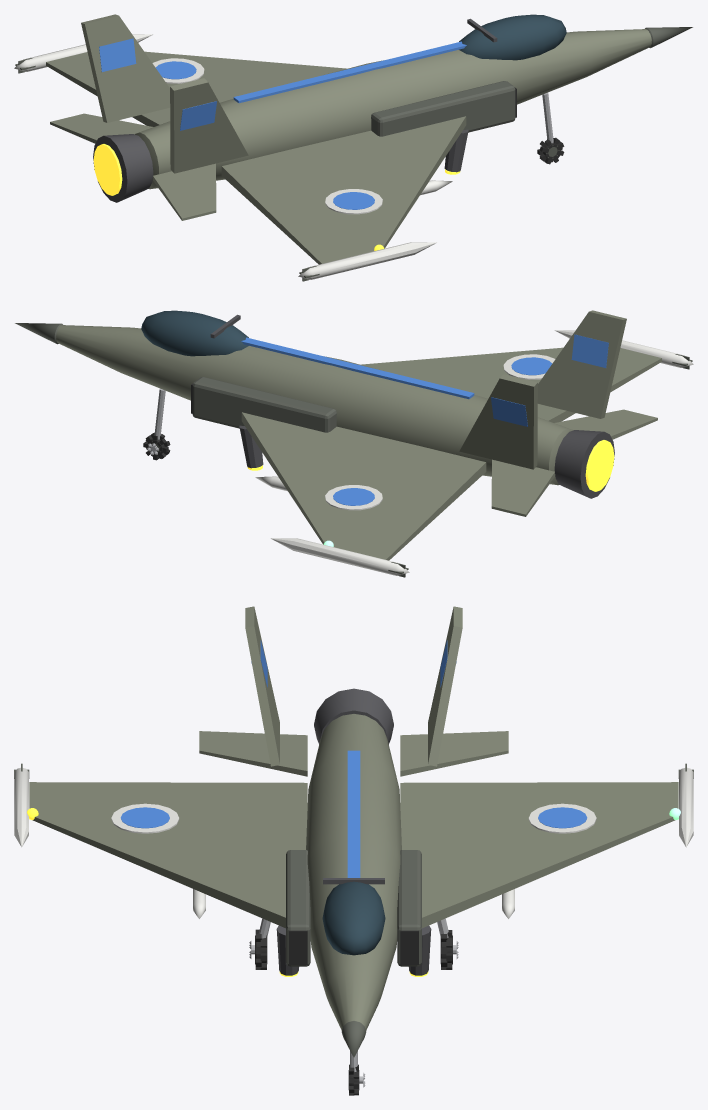
File: fighter_blue.glb
3 views of the same model, one above another, from view 1: azimuth 30°, elevation 25°; view 2: azimuth 150°, elevation 25°; view 3: azimuth 270°, elevation 25° (orthographic). The views are drawn at different scales.
Parts seen in each view (by area): view 1: Body, LandingGearN; view 2: Body, LandingGearN; view 3: Body.
Boxes of the visible parts, x1,y1,x2,y2 form: Body: (14,14,692,281); LandingGearN: (537,92,564,164); Body: (15,310,693,577); LandingGearN: (143,388,170,460); Body: (14,606,693,1057).
Bounding box in the file's own units: 5.13 × 1.77 × 4.4.
1 material, 1 textured.
